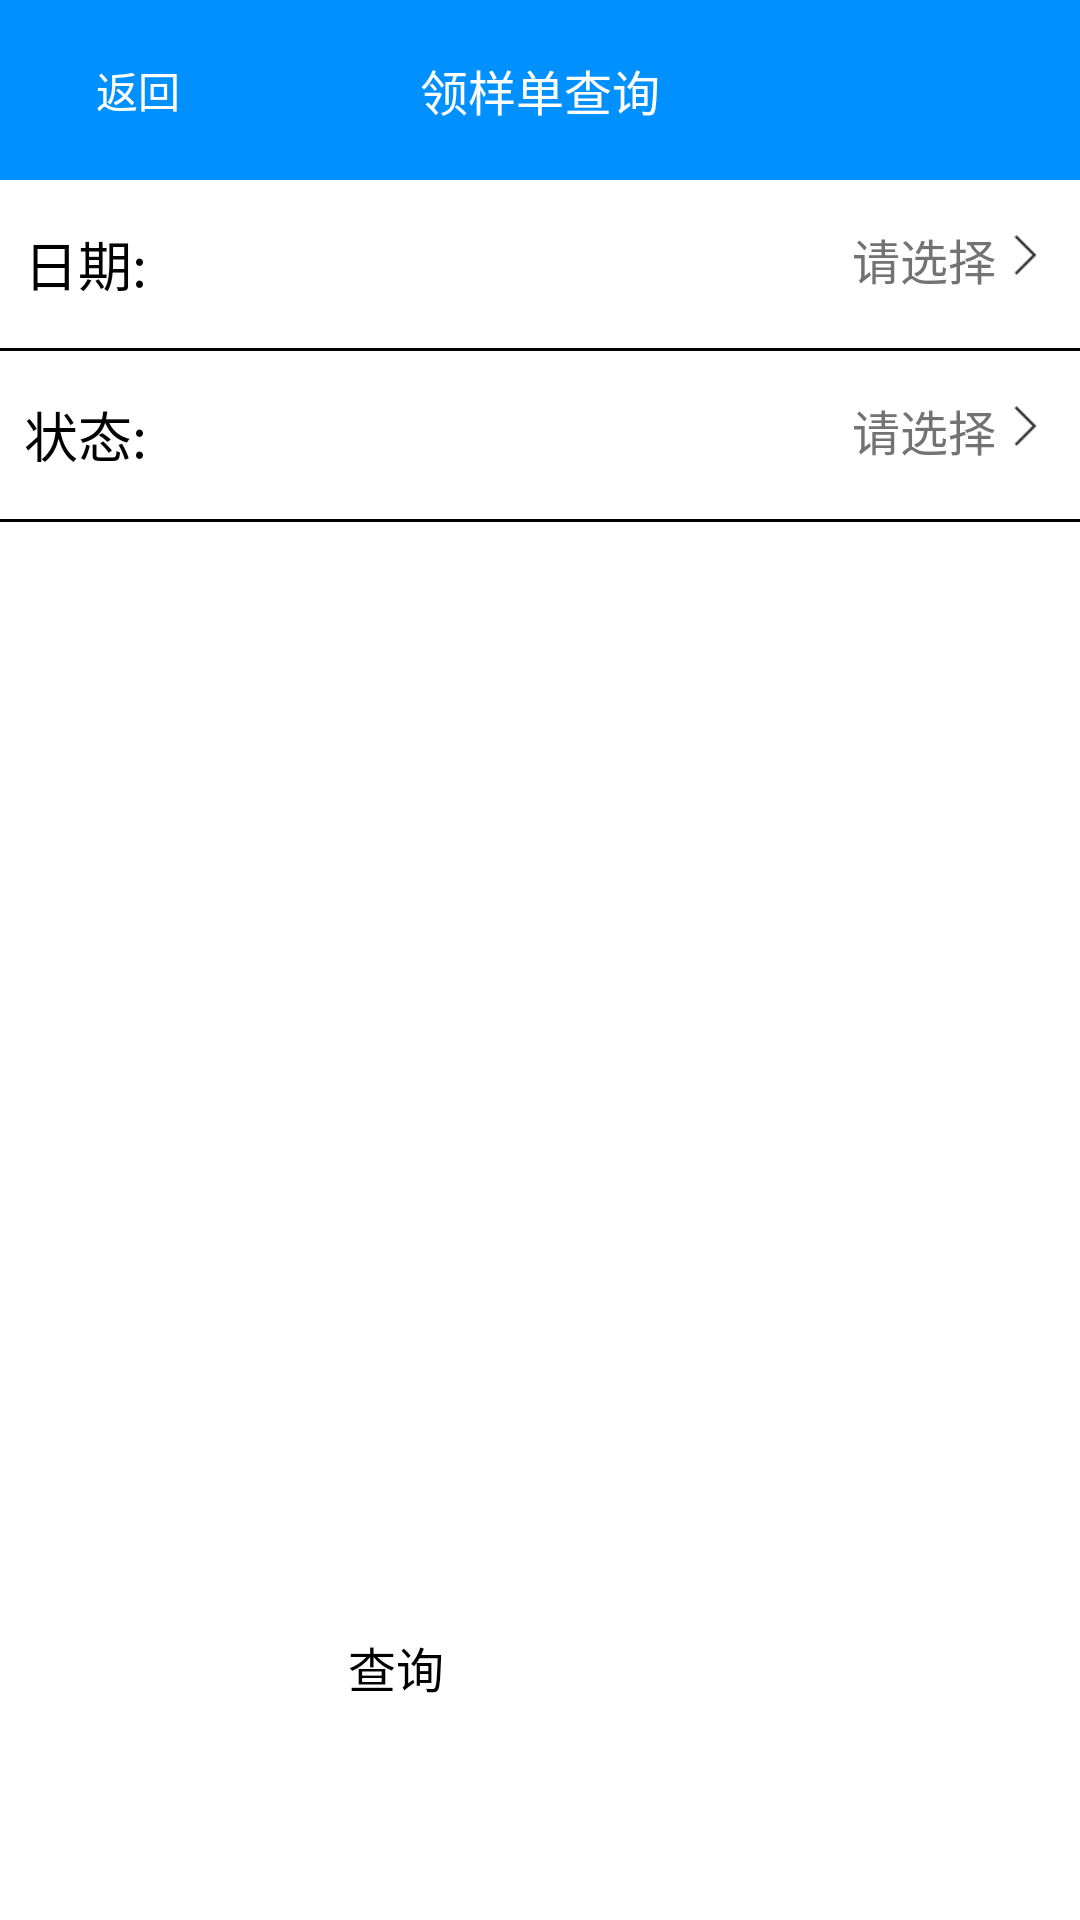

Where to tap for icons on this 1080x1920 app screen, as point (x, y):
next: point (1025, 255), point (1025, 426)
